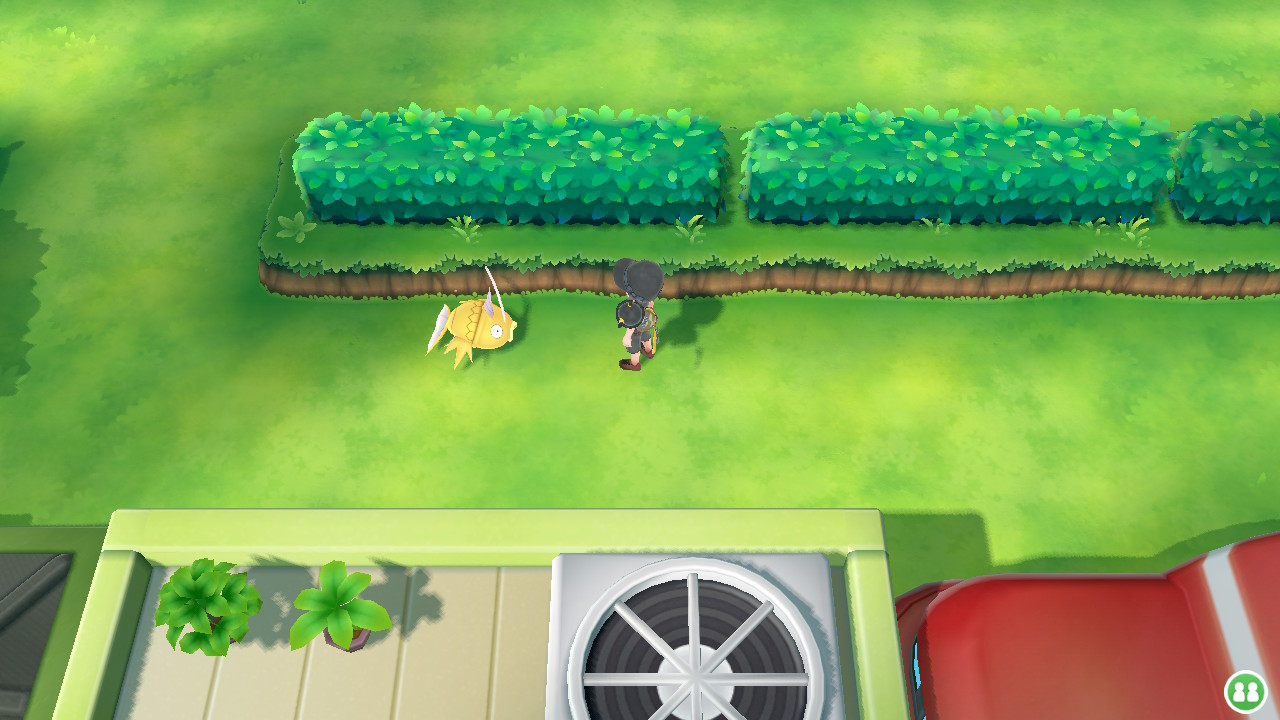Golden: (425, 292, 518, 371)
